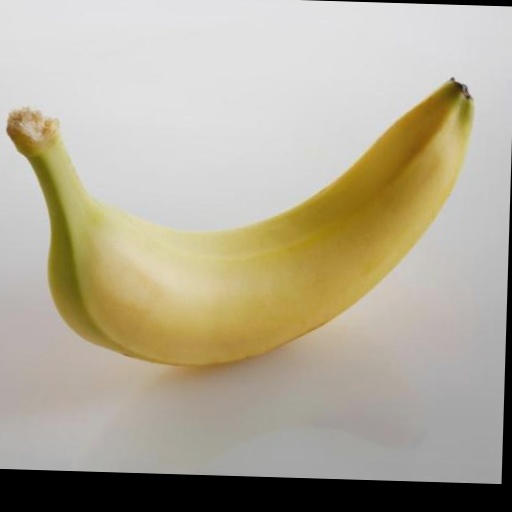fruit: (7, 80, 472, 365)
